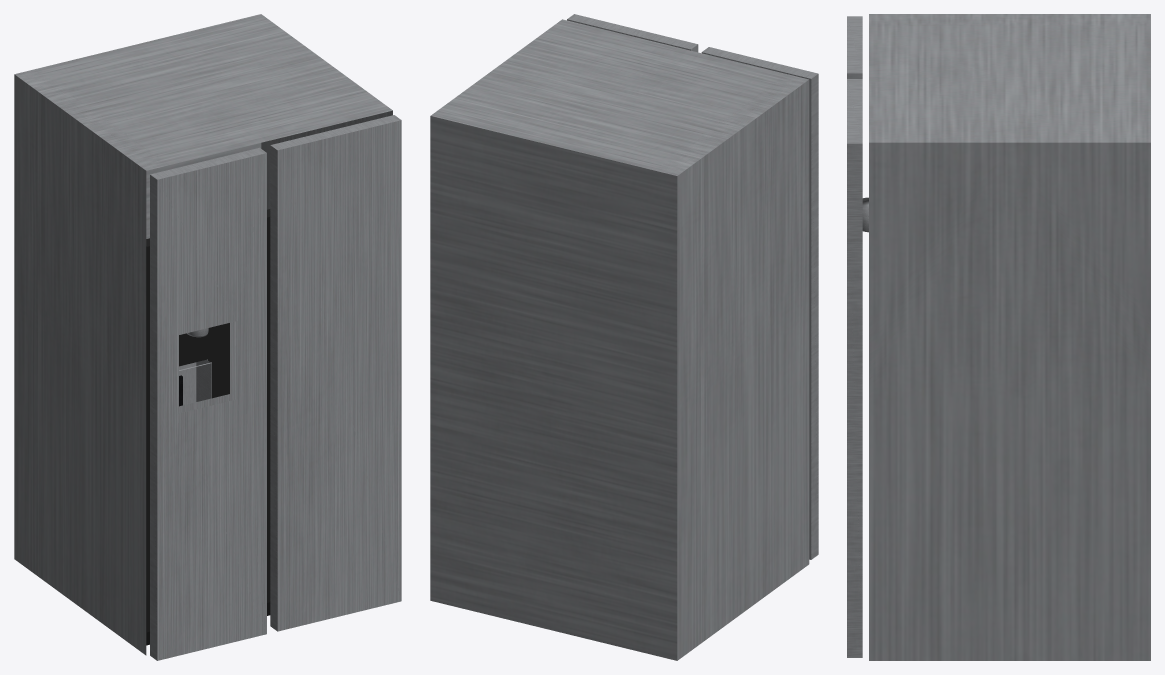
The model's file is kitchen1.glb.
3 views of the same model, side by side, from view 1: azimuth 30°, elevation 25°; view 2: azimuth 150°, elevation 25°; view 3: azimuth 270°, elevation 25° (orthographic). The views are drawn at different scales.
Visible parts, largest first — view 1: KuehlschrankSamsung_0; view 2: KuehlschrankSamsung_0; view 3: KuehlschrankSamsung_0.
Boxes of the visible parts, x1,y1,x2,y2 form: KuehlschrankSamsung_0: [14, 14, 401, 660]; KuehlschrankSamsung_0: [430, 14, 818, 660]; KuehlschrankSamsung_0: [847, 14, 1150, 660].
Bounding box in the file's own units: 0.767 × 1.47 × 0.7648.
Materials: 4 (3 with a texture image).
